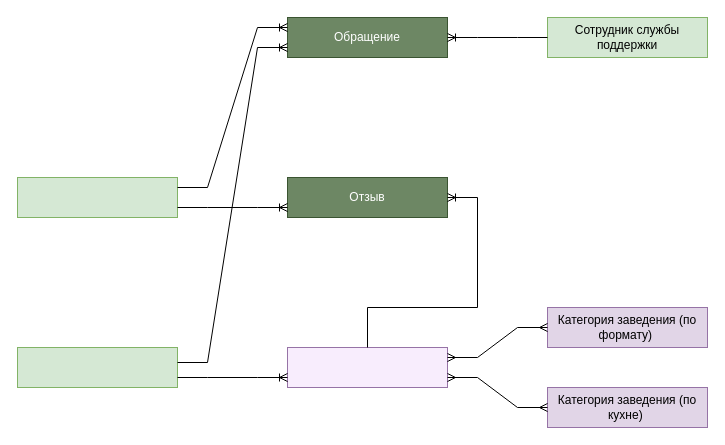
Image size: 725x445. Some labels were removed from this diagram. Here are the shapes that lost their labels. From the top down, the centre of each, then its label:
point (97, 197): Клиент
point (97, 367): Владелец заведения
point (367, 367): Заведение (кафе, ресторан)
